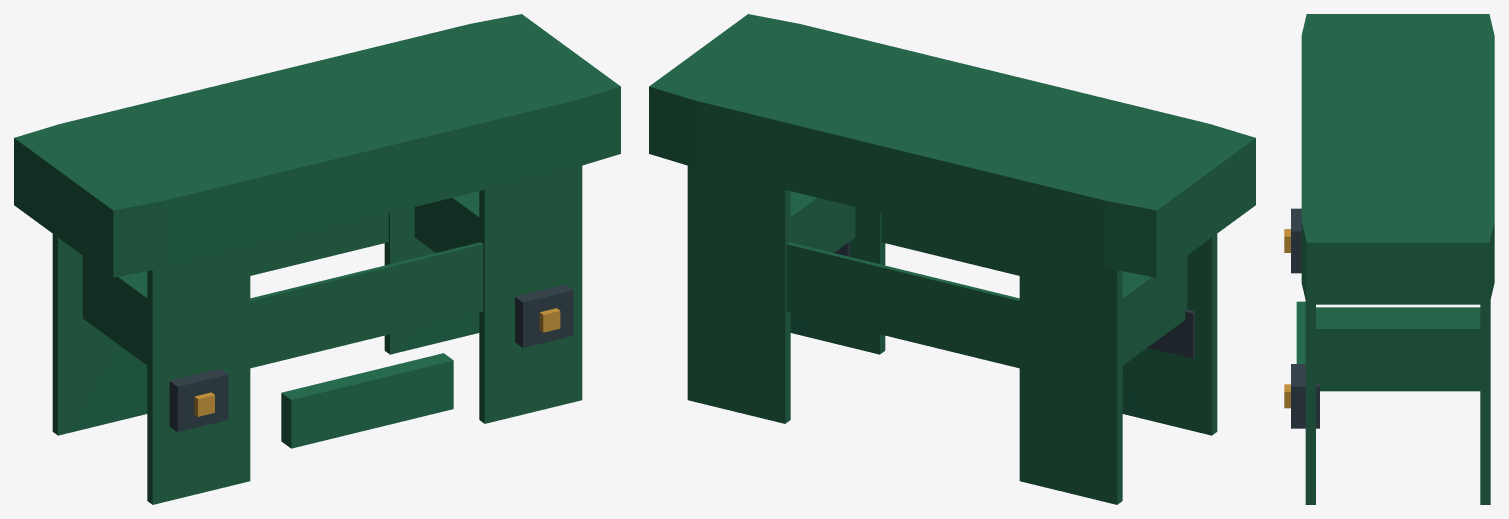
File: market-bench-mint.glb
3 renders of one model, left to right at view 1: azimuth 30°, elevation 25°; view 2: azimuth 150°, elevation 25°; view 3: azimuth 270°, elevation 25°, orthographic. The views are drawn at different scales.
Visible parts, largest first — view 1: market-bench-mint; view 2: market-bench-mint; view 3: market-bench-mint.
Boxes of the visible parts, box(x1,y1,x2,y2) form: market-bench-mint: box(14, 14, 620, 504); market-bench-mint: box(649, 14, 1255, 504); market-bench-mint: box(1284, 14, 1494, 504).
Bounding box in the file's own units: 1.4 × 0.8 × 0.5445.
